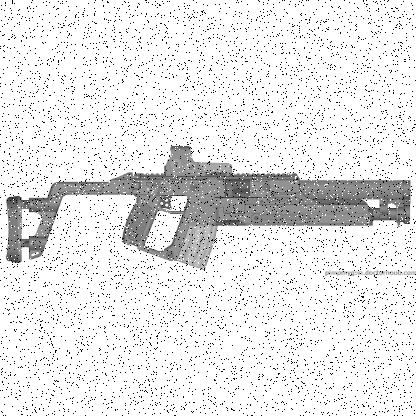gun: (5, 145, 410, 269)
